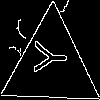Y: (26, 40, 67, 75)
